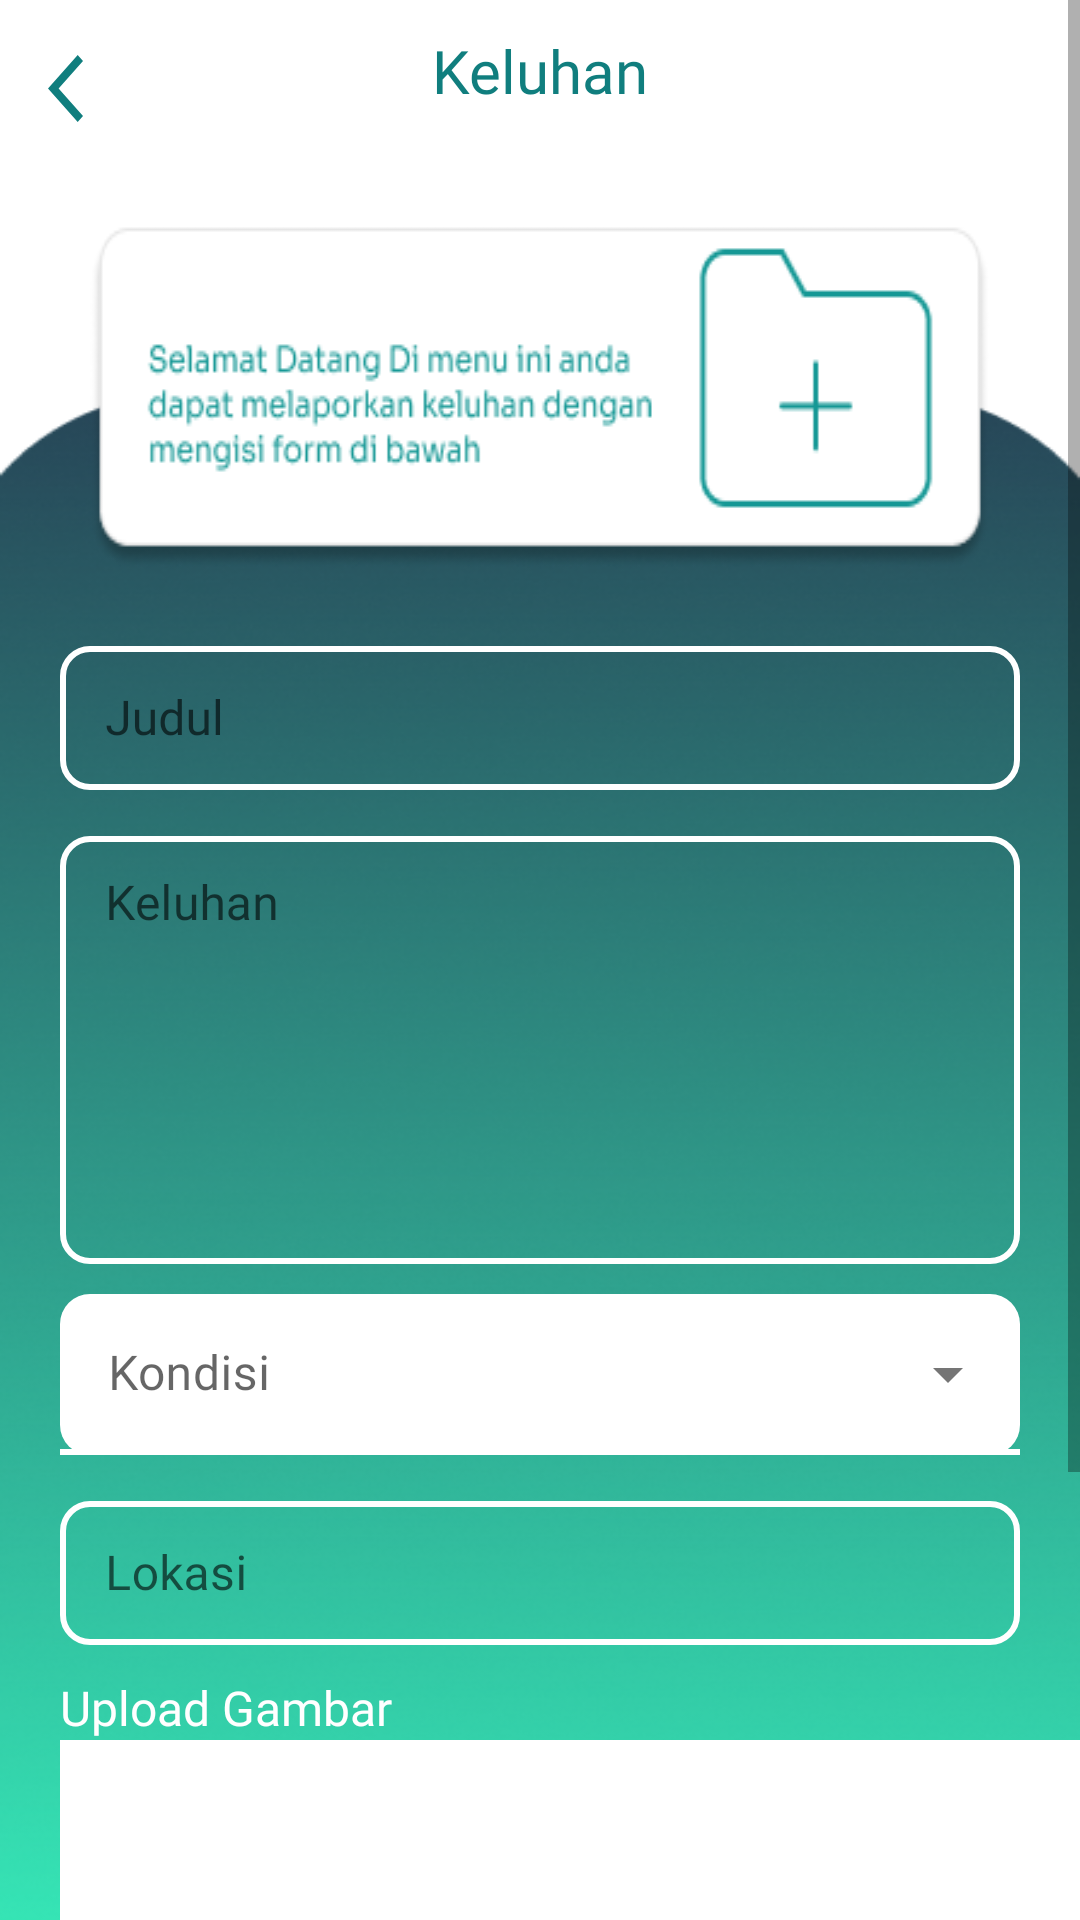

Named icons in this screenshot (1080*1920) and their bounding boxes, (x1, y1, x2, y2):
arrow back: (48, 55, 83, 122)
